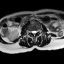CCS_normal: (33, 28, 35, 38)
LFS_normal: (37, 27, 39, 34)
LLS_normal: (35, 27, 37, 34)
RFS_stenosis: (28, 28, 30, 34)
RLS_normal: (30, 28, 33, 35)
